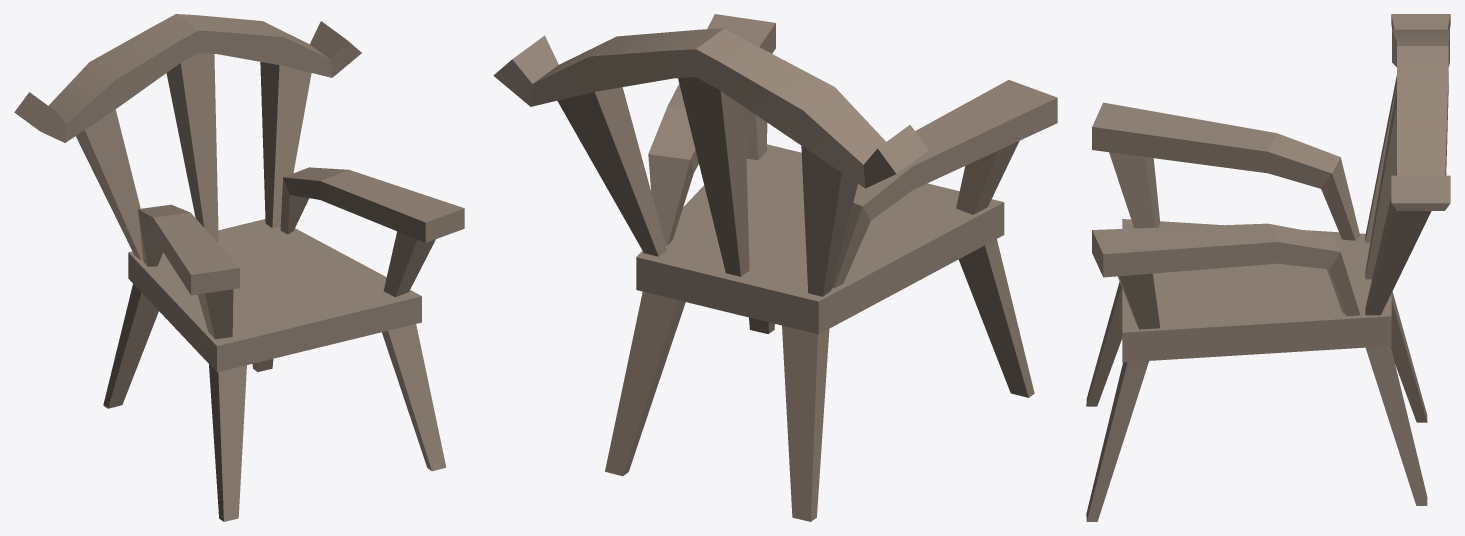
The model's file is BarChair.fbx.
3 renders of one model, left to right at view 1: azimuth 30°, elevation 25°; view 2: azimuth 150°, elevation 25°; view 3: azimuth 270°, elevation 25°, orthographic. The views are drawn at different scales.
Parts seen in each view (by area): view 1: polySurface2; view 2: polySurface2; view 3: polySurface2.
Part boxes in pixels (bbox=[...]): polySurface2: bbox=[14, 14, 464, 521]; polySurface2: bbox=[493, 14, 1057, 521]; polySurface2: bbox=[1086, 14, 1450, 521].
Size of the model in its own units: 8.83 by 9.55 by 7.61.
